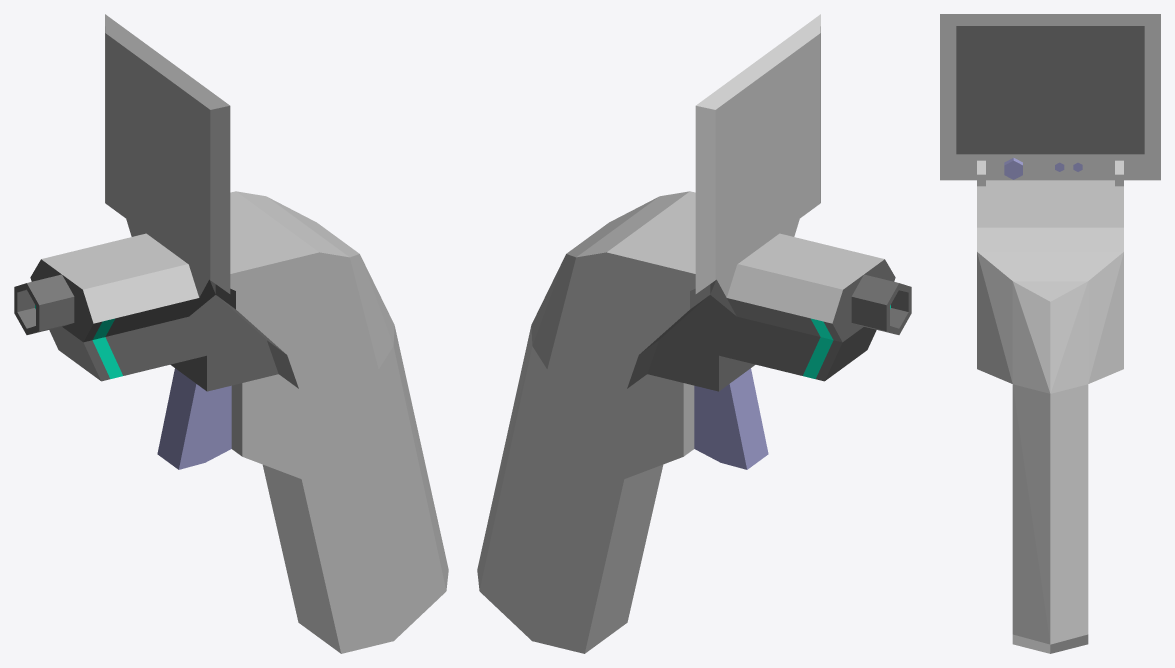
Rendered from Scanner.fbx.
The picture shows the model from 3 angles, left to right: view 1: azimuth 30°, elevation 25°; view 2: azimuth 150°, elevation 25°; view 3: azimuth 270°, elevation 25°; orthographic projection. The views are drawn at different scales.
Visible parts, largest first — view 1: Scanner; view 2: Scanner; view 3: Scanner.
Part boxes in pixels (left/top/right/bottom): Scanner: left=14, top=14, right=448, bottom=653; Scanner: left=477, top=14, right=911, bottom=653; Scanner: left=940, top=14, right=1160, bottom=653.
Size of the model in its own units: 0.1197 by 0.1669 by 0.0616.
